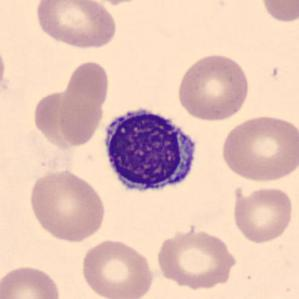Lymphocyte: (97, 100, 202, 201)
RBC: (27, 167, 108, 243), (218, 111, 298, 184), (174, 51, 252, 123), (154, 225, 239, 290), (53, 58, 109, 150), (79, 236, 155, 299), (32, 0, 119, 50), (229, 184, 295, 244), (31, 88, 90, 149), (62, 59, 111, 110), (0, 262, 64, 299), (257, 0, 298, 25), (76, 0, 156, 7), (0, 37, 7, 101)
